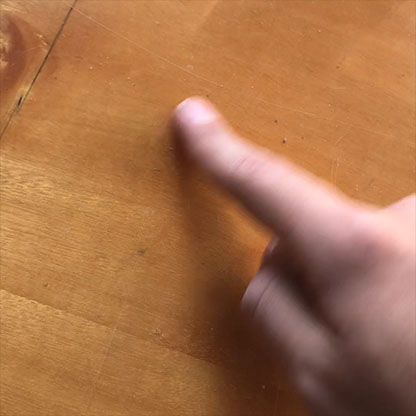fingertip: (161, 86, 232, 148)
